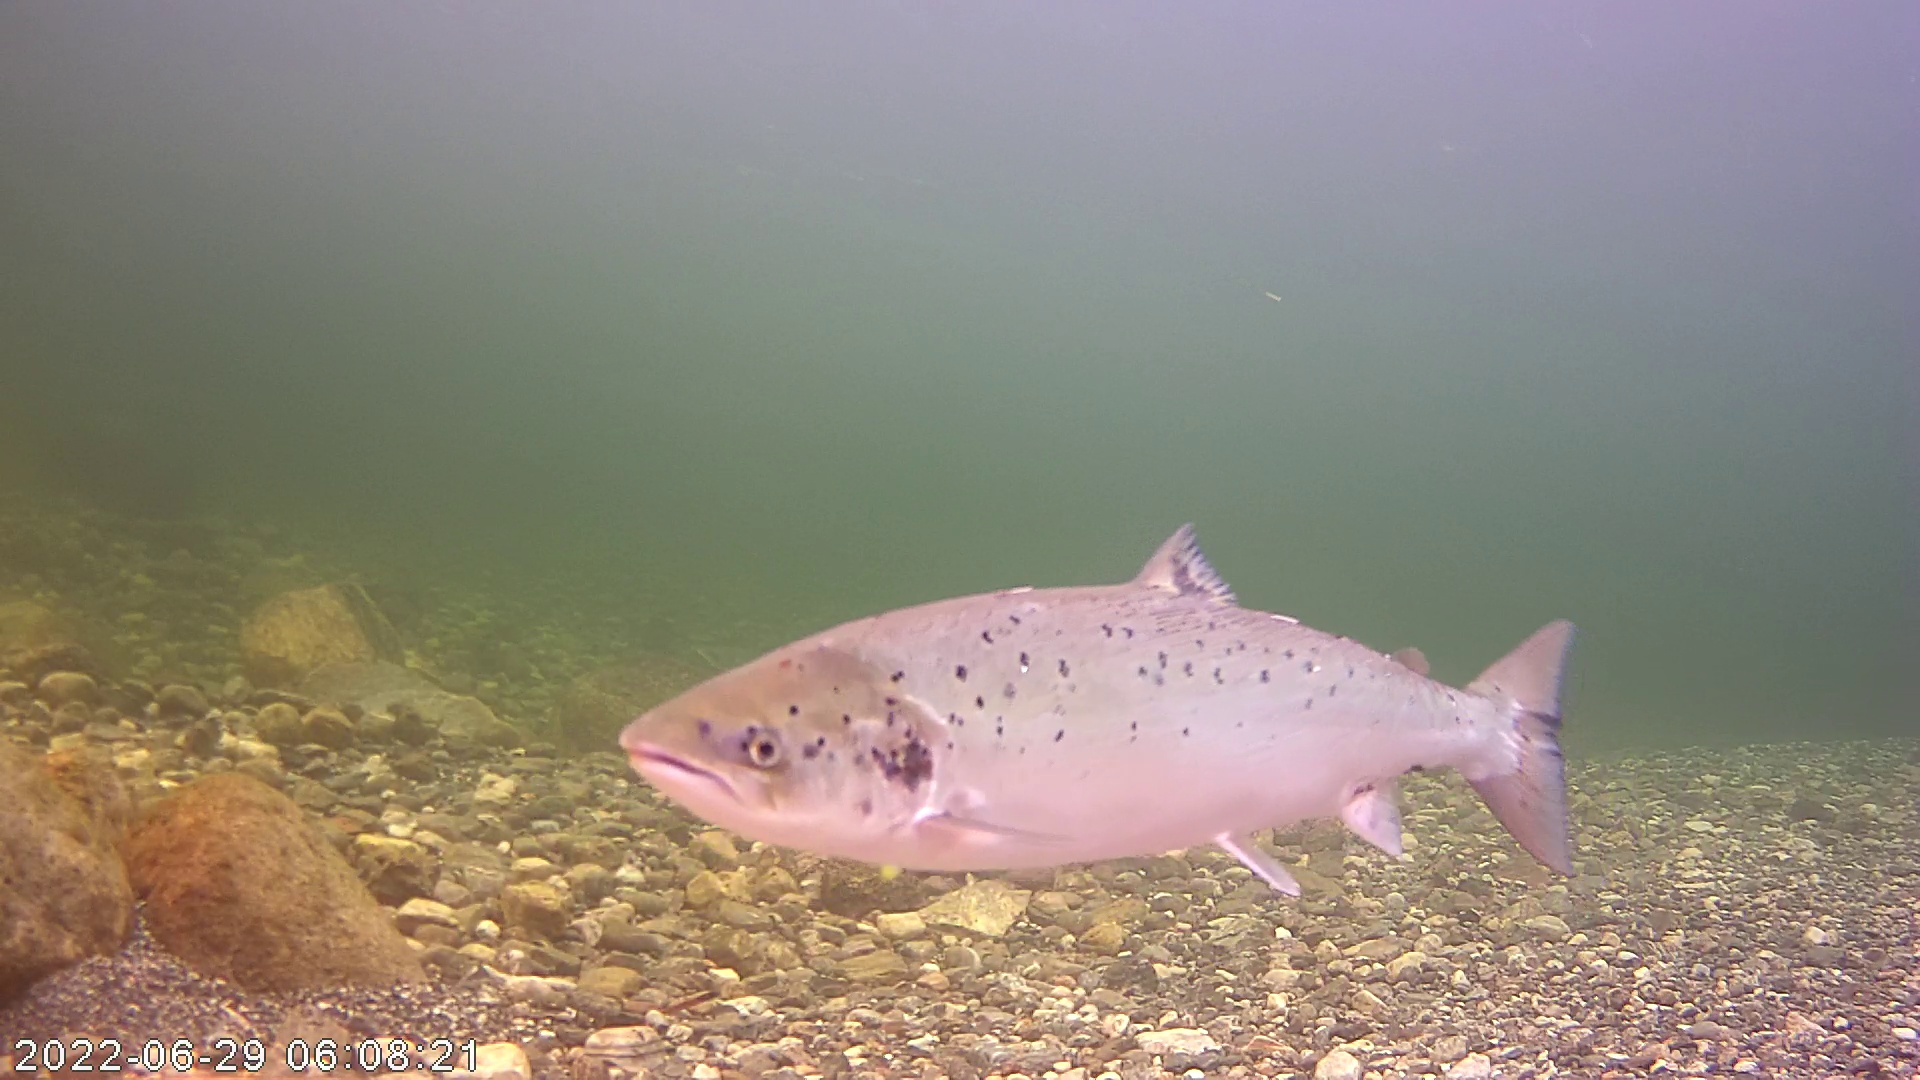salmon: (621, 451, 1585, 901)
